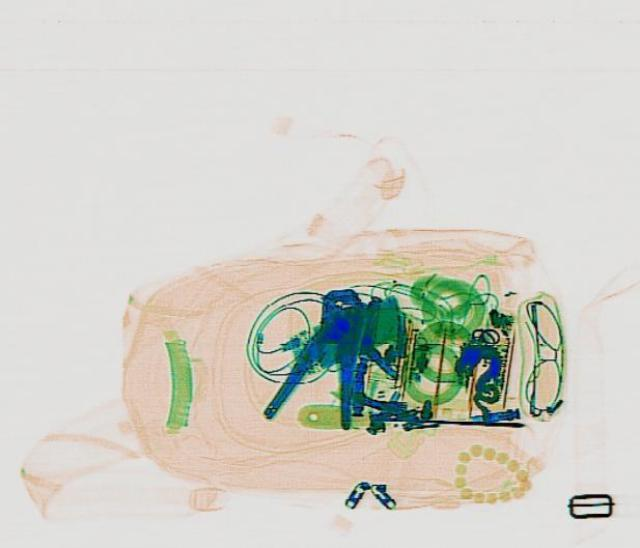Pliers: (261, 278, 379, 429)
